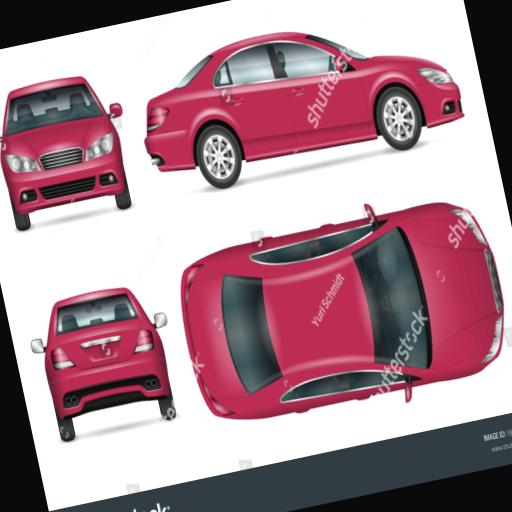Sedan-sDLz: (165, 177, 512, 444), (122, 0, 474, 207), (181, 203, 503, 418), (0, 57, 142, 235), (30, 287, 175, 441)
